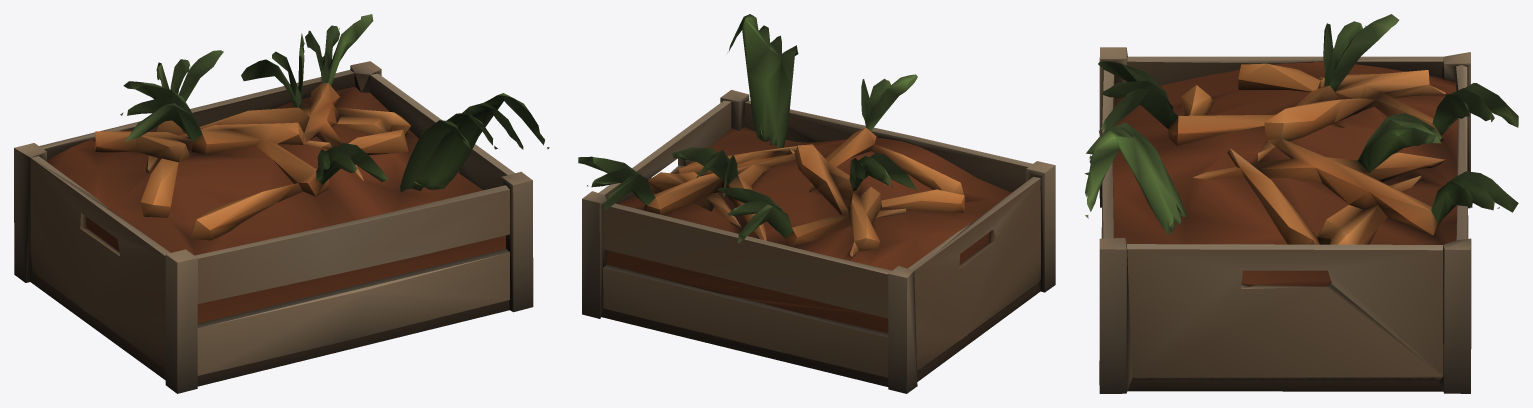
Rendered from crate_carrots.glb.
The picture shows the model from 3 angles, left to right: view 1: azimuth 30°, elevation 25°; view 2: azimuth 150°, elevation 25°; view 3: azimuth 270°, elevation 25°; orthographic projection. The views are drawn at different scales.
Parts seen in each view (by area): view 1: crate_carrots_LOD0; view 2: crate_carrots_LOD0; view 3: crate_carrots_LOD0.
Boxes of the visible parts, <box> form: crate_carrots_LOD0: <box>14,14,549,393</box>; crate_carrots_LOD0: <box>578,14,1055,393</box>; crate_carrots_LOD0: <box>1084,14,1518,393</box>.
Size of what is drawn, in the model's own units: 0.7192 by 0.4073 by 0.6493.
